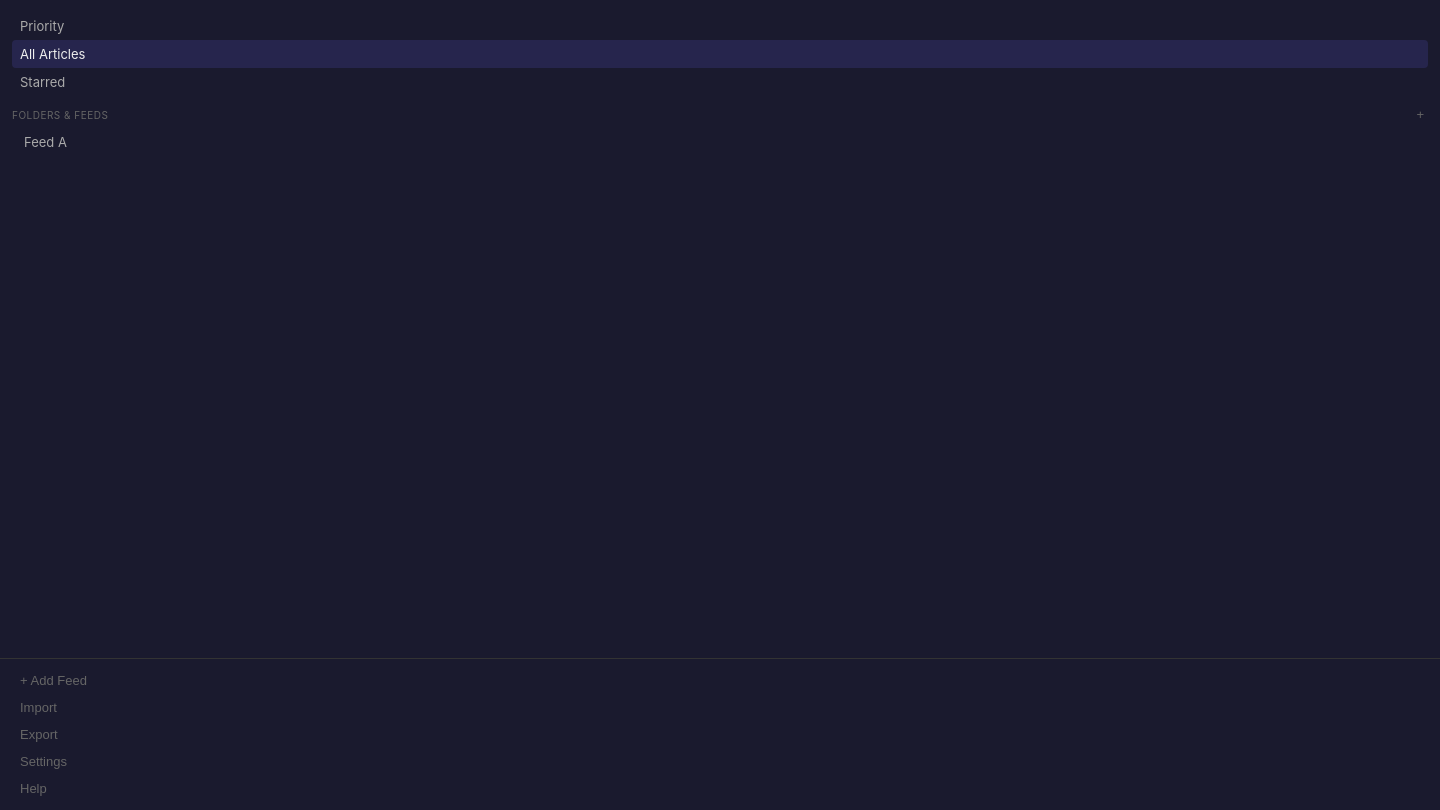
Test: FeedPanel new folder button › opens the inline input when clicked
Click the button named "New folder": click(1420, 114) [1412, 108, 1428, 121]
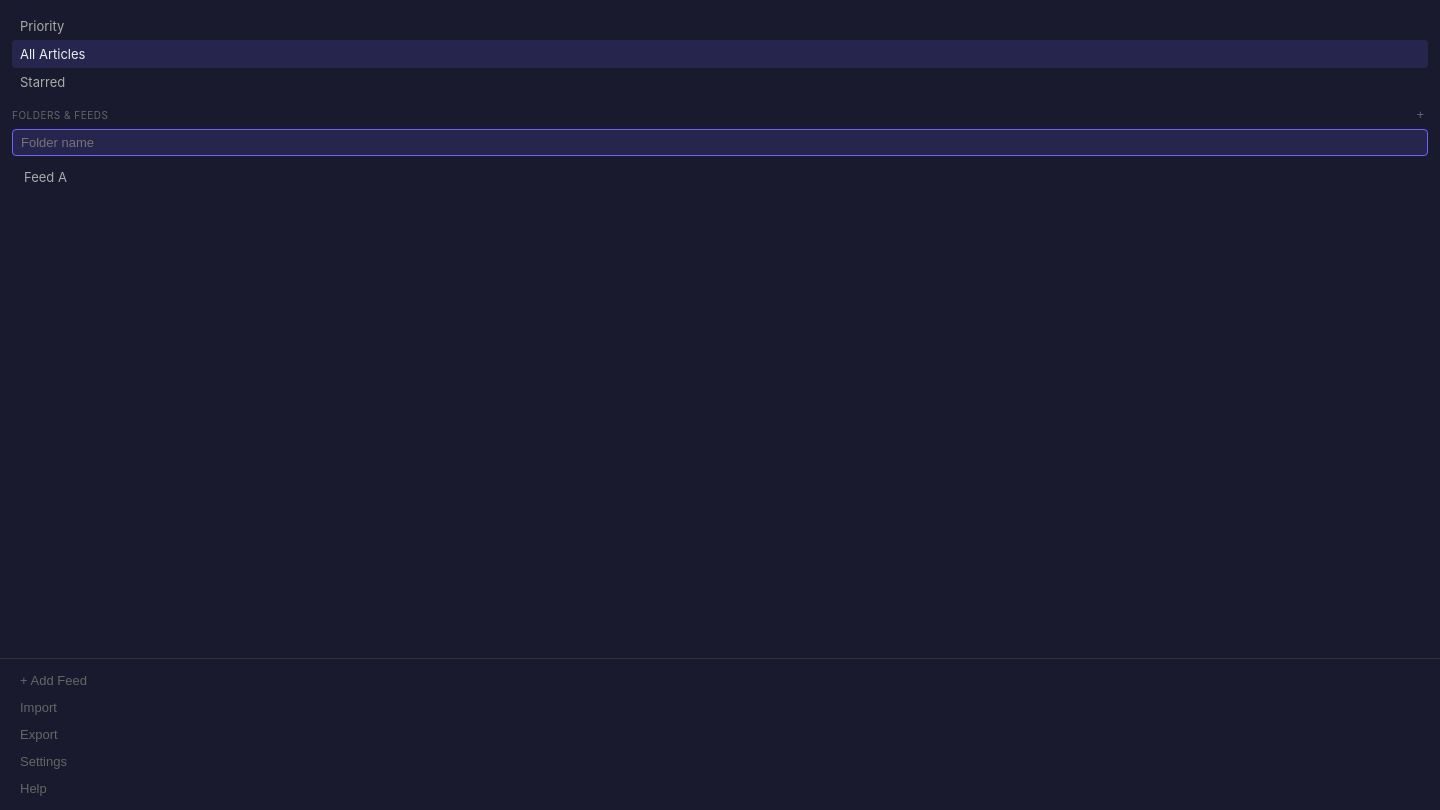
Expected: the field with placeholder "Folder name" is shown, [12, 129, 1428, 156]
